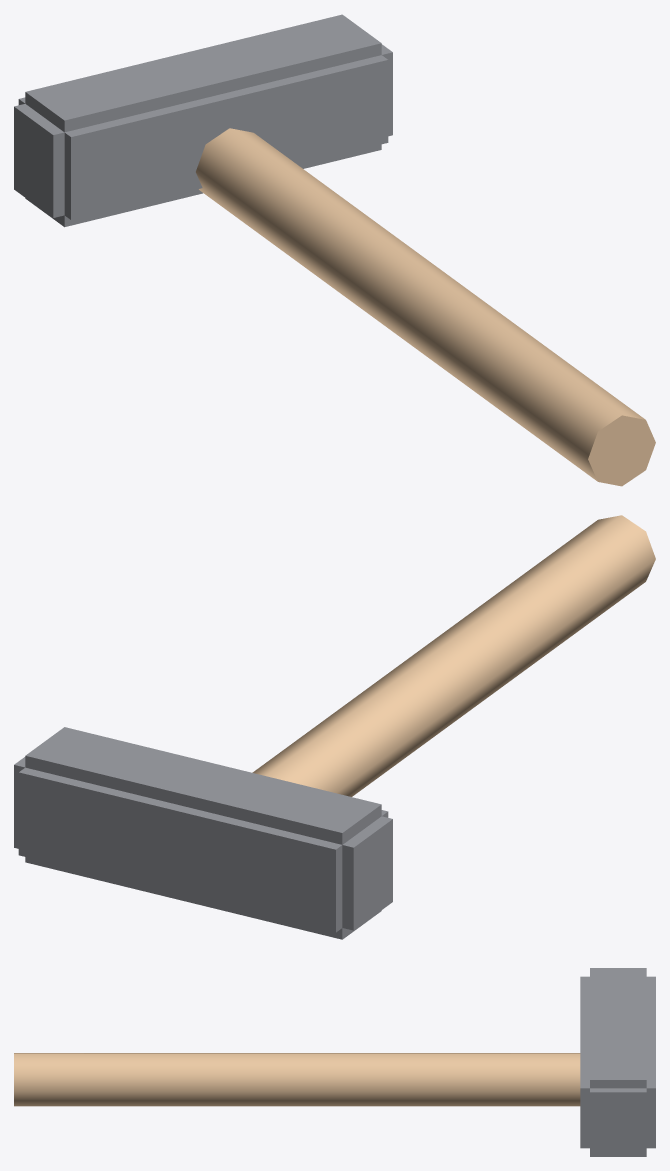
The model's file is hammer.glb.
The picture shows the model from 3 angles, top to bottom: view 1: azimuth 30°, elevation 25°; view 2: azimuth 150°, elevation 25°; view 3: azimuth 270°, elevation 25°; orthographic projection. The views are drawn at different scales.
Visible parts, largest first — view 1: hammer; view 2: hammer; view 3: hammer.
Boxes of the visible parts, box(x1,y1,x2,y2) form: hammer: box(14, 14, 655, 486); hammer: box(14, 515, 655, 939); hammer: box(14, 968, 655, 1156).
Bounding box in the file's own units: 0.15 × 0.0475 × 0.34.
